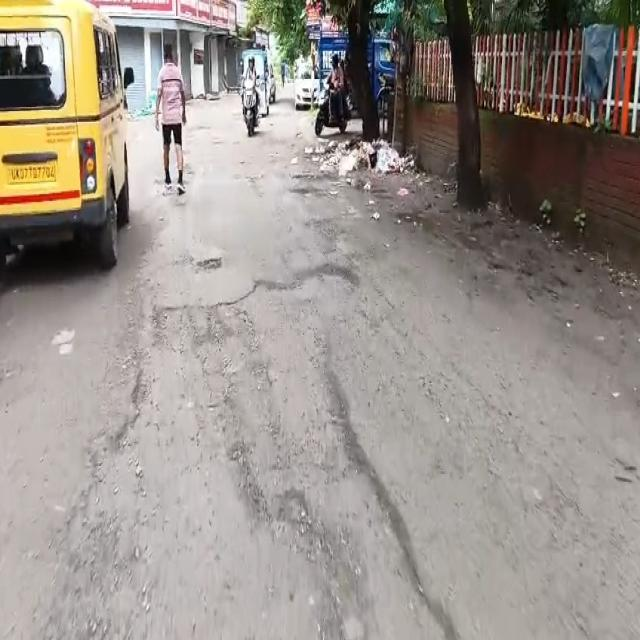road-pothole: (153, 261, 448, 638)
